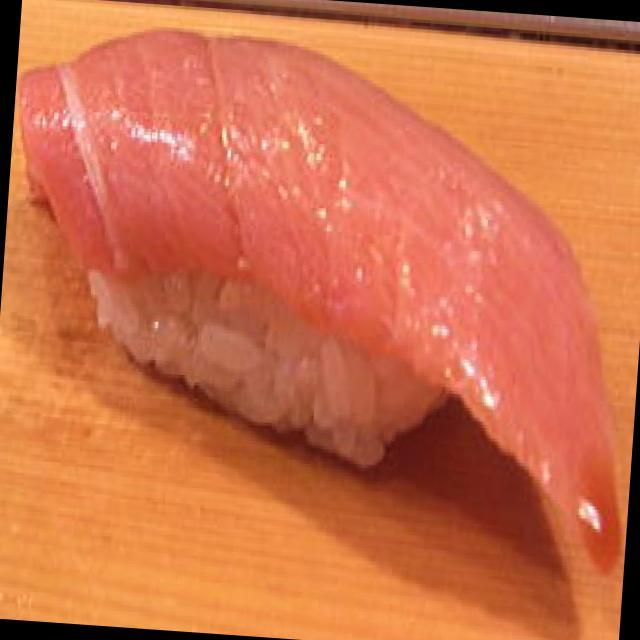Sushi: (0, 19, 635, 640)
